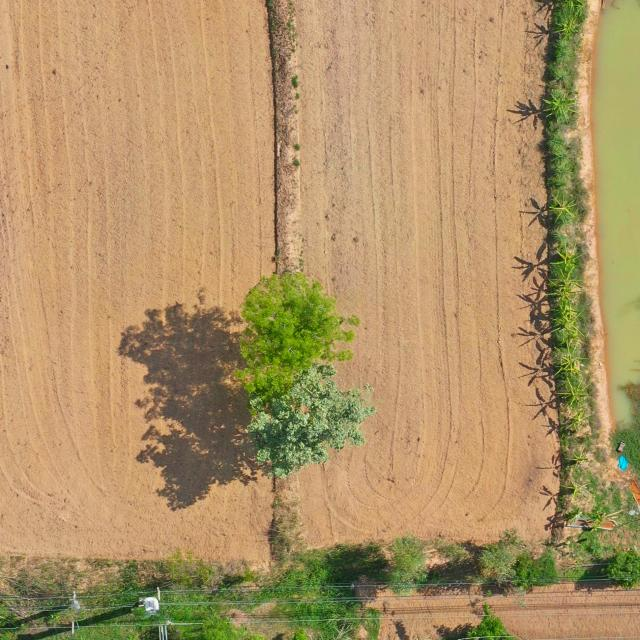Tree: (233, 272, 362, 414), (246, 362, 378, 481), (470, 540, 560, 593), (464, 602, 514, 640), (544, 266, 583, 310), (552, 339, 589, 379), (548, 239, 586, 277), (604, 550, 640, 590), (540, 91, 580, 125), (548, 302, 586, 336), (552, 375, 591, 407), (552, 14, 587, 42), (588, 507, 625, 533), (548, 194, 578, 223), (564, 408, 594, 432), (560, 478, 592, 500), (562, 447, 589, 472), (553, 0, 587, 13)
